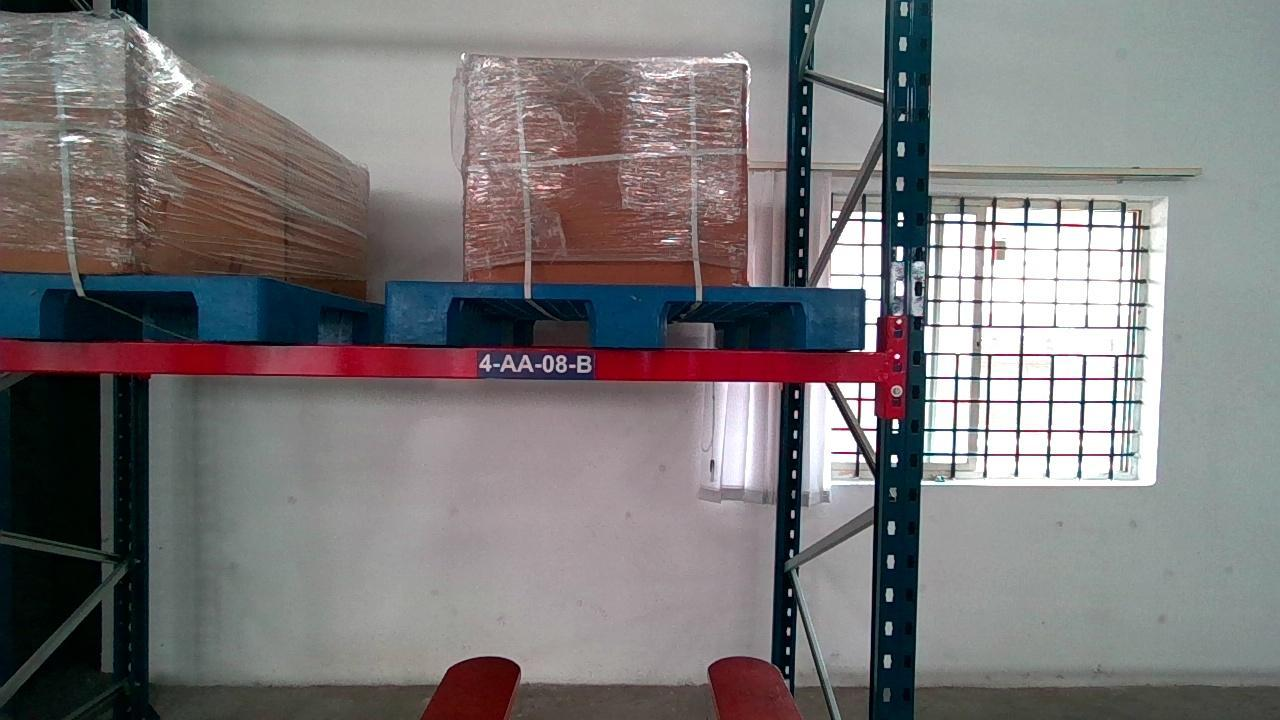h_rack: (4, 342, 890, 381)
small_pallet: (388, 282, 864, 347), (0, 273, 262, 337)
